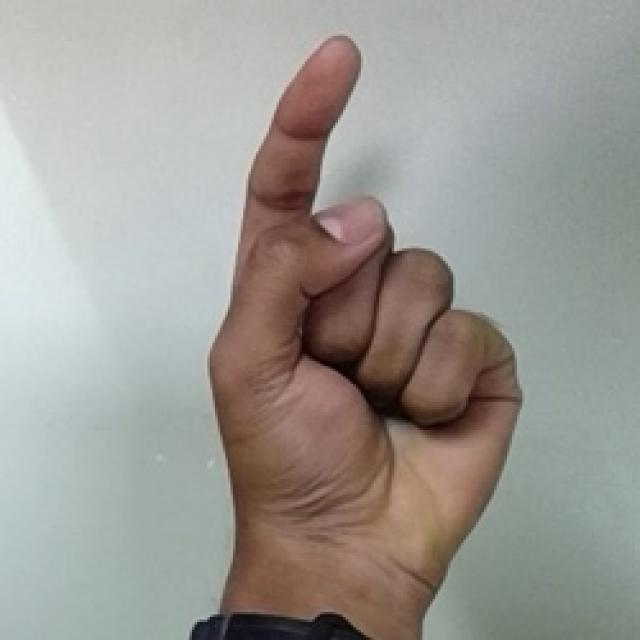Numeric-1: (213, 32, 518, 588)
